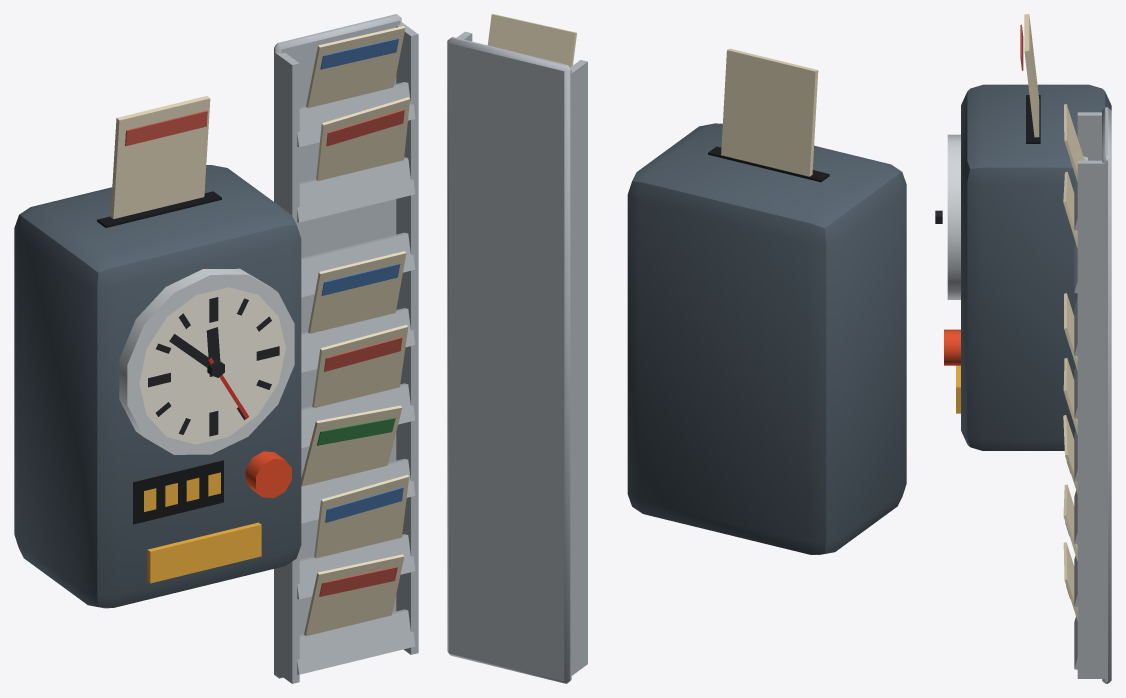
File: Shop_PunchClock.fbx
3 renders of one model, left to right at view 1: azimuth 30°, elevation 25°; view 2: azimuth 150°, elevation 25°; view 3: azimuth 270°, elevation 25°, orthographic. The views are drawn at different scales.
Parts seen in each view (by area): view 1: Body, Rack, Cards, Face, Bezel, StripeC9584C, Plate, Stripe4E7FB8, Window, Hands, Button, Digits (+2 smaller); view 2: Body, Rack, Cards; view 3: Body, Rack, Cards, Bezel, Button, Slot.
Part boxes in pixels (bbox=[...]): Body: bbox=[14, 165, 301, 608]; Rack: bbox=[274, 14, 418, 683]; Cards: bbox=[110, 26, 409, 636]; Face: bbox=[139, 287, 285, 444]; Bezel: bbox=[119, 268, 294, 454]; StripeC9584C: bbox=[125, 109, 404, 596]; Plate: bbox=[147, 522, 261, 583]; Stripe4E7FB8: bbox=[320, 38, 403, 522]; Window: bbox=[133, 460, 223, 524]; Hands: bbox=[148, 297, 279, 436]; Button: bbox=[245, 451, 291, 498]; Digits: bbox=[144, 472, 220, 511]; Body: bbox=[627, 123, 906, 554]; Rack: bbox=[447, 31, 587, 683]; Cards: bbox=[487, 14, 818, 176]; Body: bbox=[961, 84, 1111, 450]; Rack: bbox=[1074, 107, 1111, 683]; Cards: bbox=[1024, 14, 1084, 620]; Bezel: bbox=[947, 134, 960, 299]; Button: bbox=[944, 329, 960, 365]; Slot: bbox=[1026, 95, 1040, 143].
Bounding box in the file's own units: 156 × 244 × 72.5.
